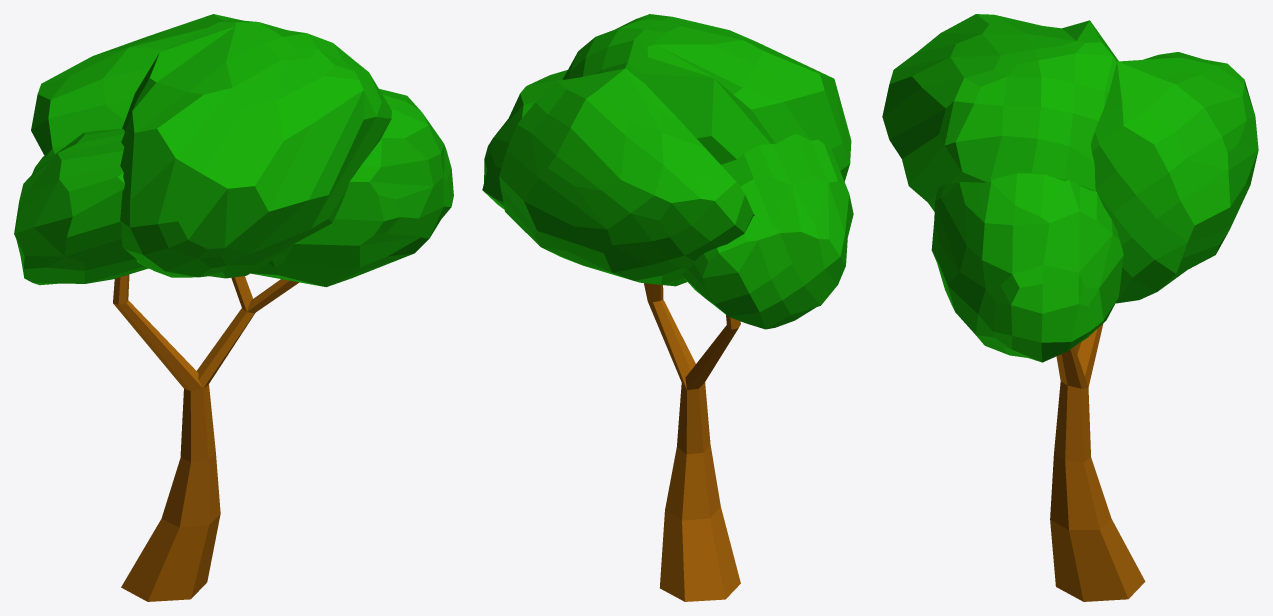
The model's file is tree_02.fbx.
3 renders of one model, left to right at view 1: azimuth 30°, elevation 25°; view 2: azimuth 150°, elevation 25°; view 3: azimuth 270°, elevation 25°, orthographic. The views are drawn at different scales.
Visible parts, largest first — view 1: tree 2; view 2: tree 2; view 3: tree 2.
Boxes of the visible parts, x1=… form: tree 2: x1=14, y1=14, x2=453, y2=601; tree 2: x1=482, y1=14, x2=853, y2=601; tree 2: x1=882, y1=14, x2=1258, y2=601.
Bounding box in the file's own units: 231 × 302 × 179.
